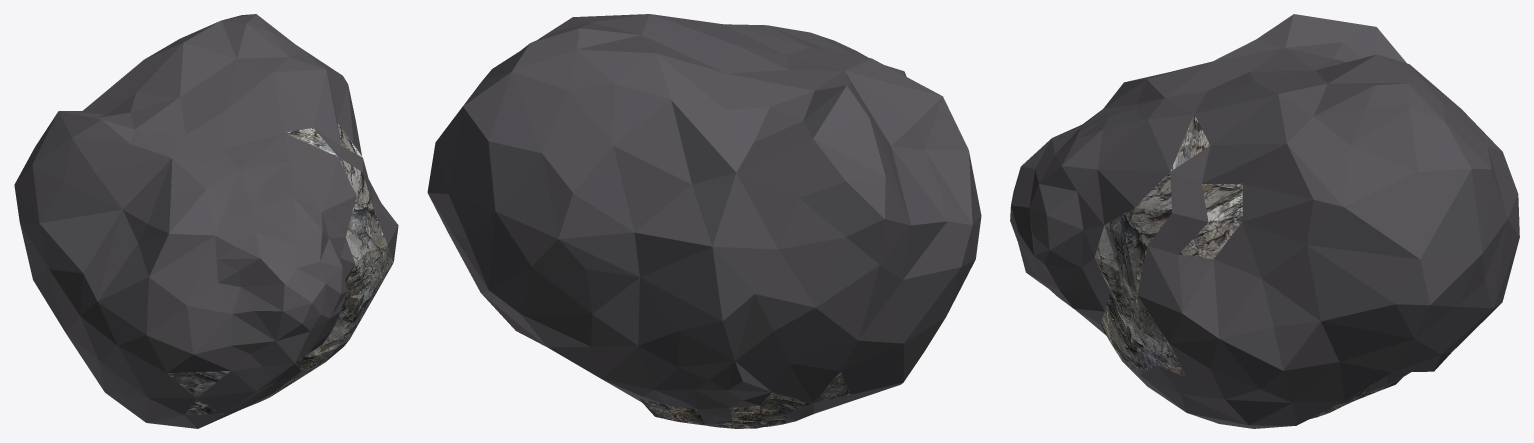
File: Rock.gltf
3 renders of one model, left to right at view 1: azimuth 30°, elevation 25°; view 2: azimuth 150°, elevation 25°; view 3: azimuth 270°, elevation 25°, orthographic. The views are drawn at different scales.
Parts seen in each view (by area): view 1: Sphere; view 2: Sphere; view 3: Sphere.
Part boxes in pixels (x1,y1,x2,y2): Sphere: (14, 14, 398, 428); Sphere: (427, 14, 981, 428); Sphere: (1010, 14, 1519, 428).
Size of the model in its own units: 6.71 by 6.03 by 7.4.
Materials: 1 (1 with a texture image).
